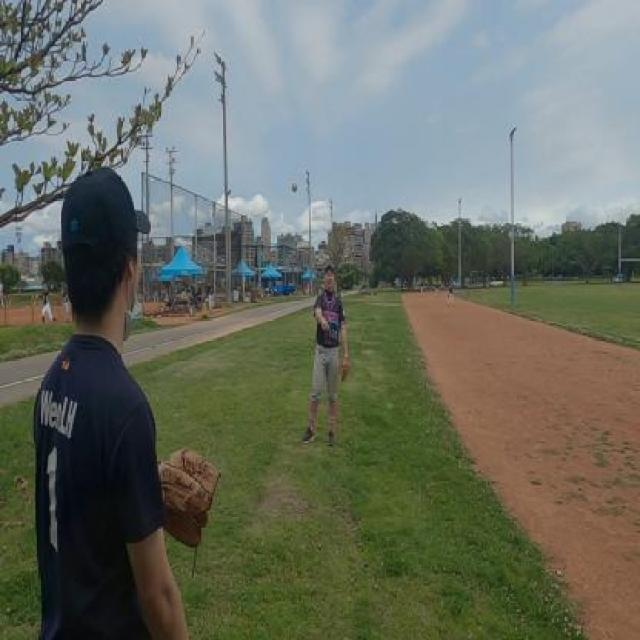baseball: (292, 181, 298, 194)
